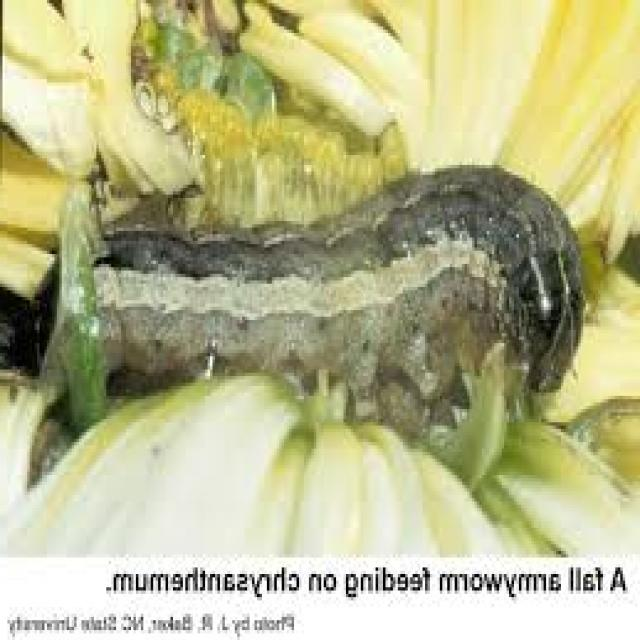armyworm: (28, 158, 589, 409)
